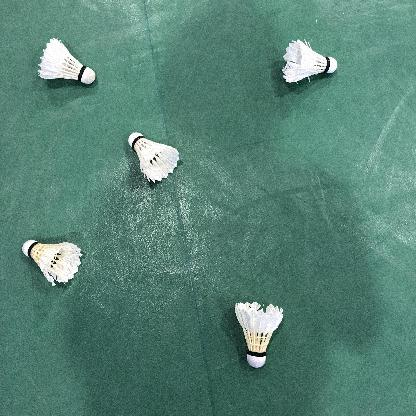ball_single: (235, 301, 283, 368), (22, 240, 83, 286), (37, 38, 95, 84), (128, 132, 179, 183), (282, 39, 337, 83)
